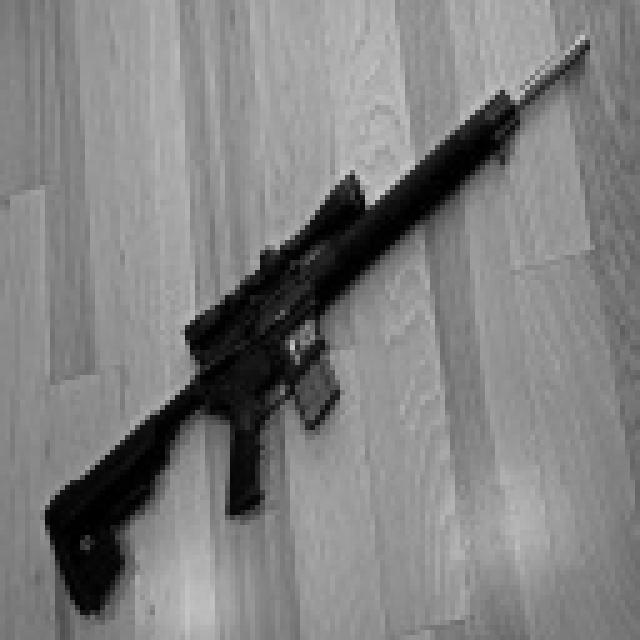Rifle: (0, 0, 605, 624)
